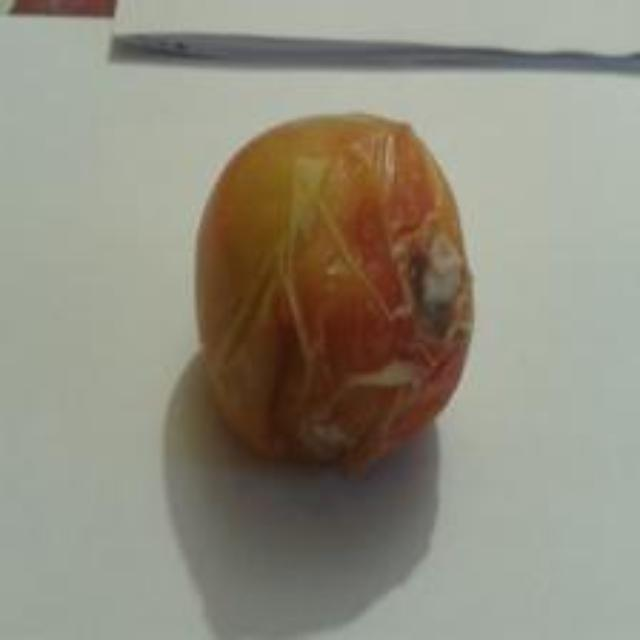defect: (182, 86, 510, 485)
